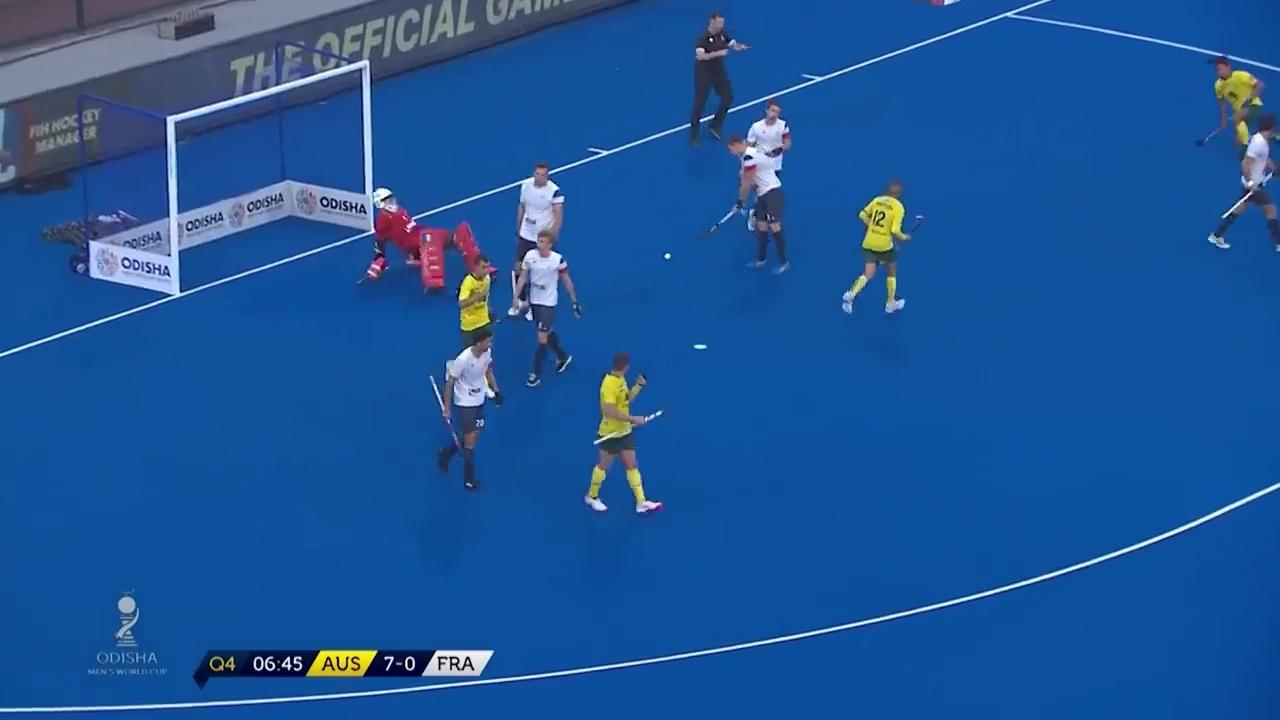ball: (657, 247, 677, 269)
